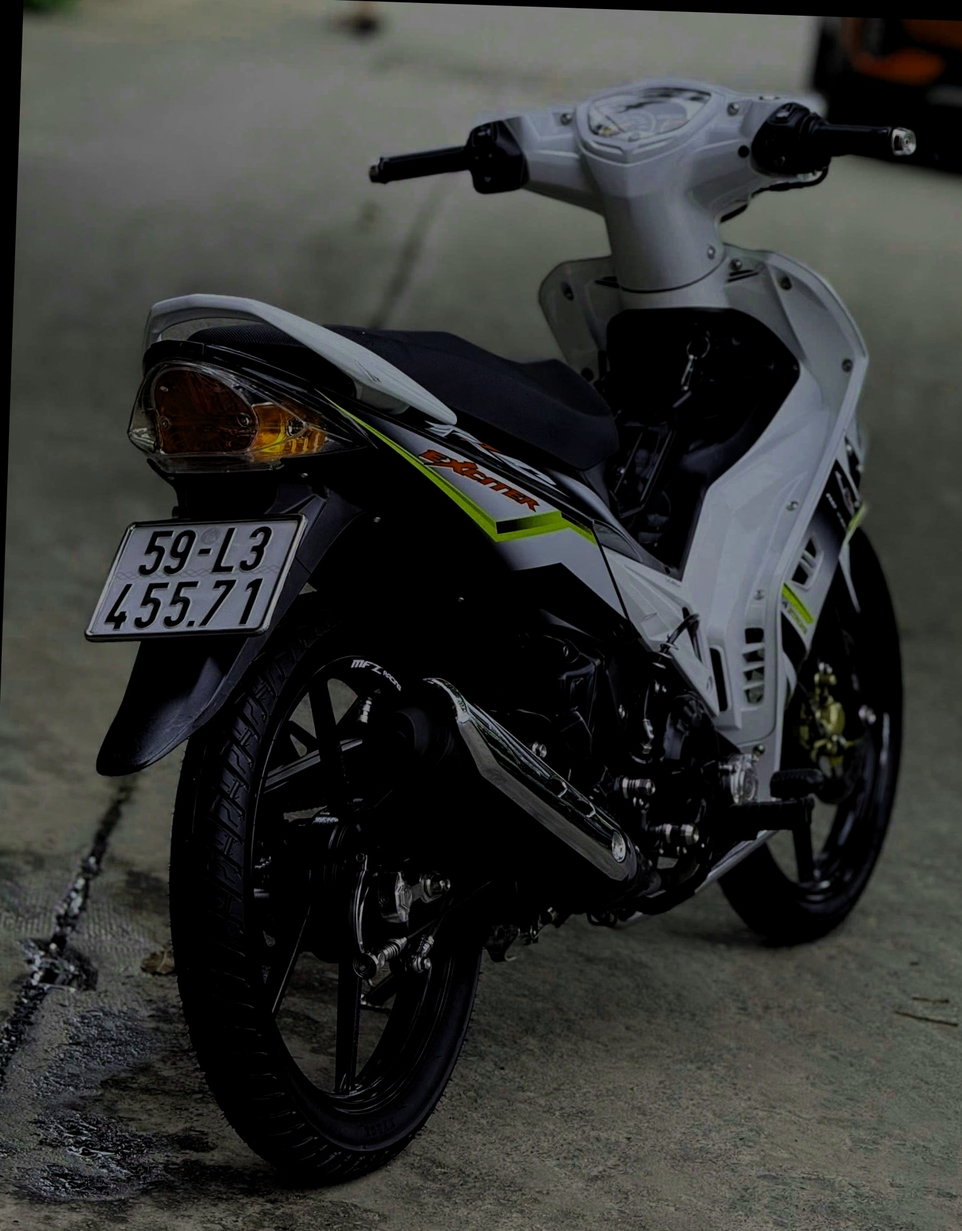Bien-so: (95, 514, 304, 644)
